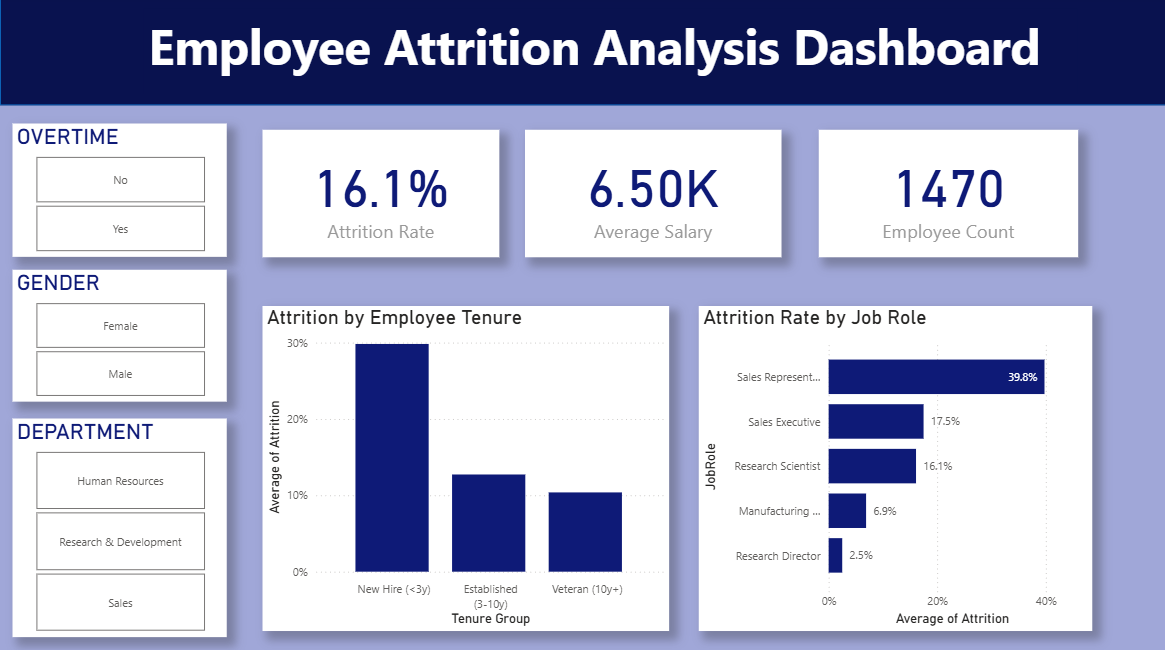

This screenshot's page, from the dashboard's own definition file:
{"tool":"powerbi","page":{"name":"Dashboard","canvas":[1280,720],"ordinal":0},"visuals":[{"type":"card","fields":{"Values":["CountNonNull(Cleaned Data.Employee Age)"]},"box":[898.3,146.7,285,140],"z":0},{"type":"card","fields":{"Values":["Avg(Cleaned Data.Attrition)"]},"box":[288.3,146.7,260,140],"z":1000},{"type":"card","fields":{"Values":["Avg(Cleaned Data.Monthly Salary($))"]},"box":[576.7,146.7,281.7,140],"z":2000},{"type":"slicer","title":"OVERTIME","fields":{"Values":["Cleaned Data.OverTime"]},"box":[13.3,140,235,146.7],"z":3000},{"type":"clusteredColumnChart","title":"Attrition by Employee Tenure","fields":{"Category":["Cleaned Data.Tenure Group"],"Y":["Avg(Cleaned Data.Attrition)"]},"box":[288.3,340,446.7,356.7],"z":4000},{"type":"clusteredBarChart","title":"Attrition Rate by Job Role","fields":{"Category":["Cleaned Data.JobRole"],"Y":["Avg(Cleaned Data.Attrition)"]},"box":[766.7,340,431.7,356.7],"z":5000},{"type":"slicer","title":"GENDER","fields":{"Values":["Cleaned Data.Gender"]},"box":[13.3,300,235,145],"z":6000},{"type":"slicer","title":"DEPARTMENT","fields":{"Values":["Cleaned Data.Department"]},"box":[13.3,463.3,235,240],"z":7000},{"type":"shape","box":[0,0,1280,120],"z":8000},{"type":"textbox","box":[158.3,13.3,1025,93.3],"z":9000}]}

Visuals, with their boxes in screenshot pixels (x1, y1, x2, y2), scaled from the page's 1280x720 canvas onto the 1165x650 screenshot:
card - CountNonNull(Cleaned Data.Employee Age): select_region(818, 132, 1077, 259)
card - Avg(Cleaned Data.Attrition): select_region(262, 132, 499, 259)
card - Avg(Cleaned Data.Monthly Salary($)): select_region(525, 132, 781, 259)
"OVERTIME" slicer: select_region(12, 126, 226, 259)
"Attrition by Employee Tenure" clusteredColumnChart: select_region(262, 307, 669, 629)
"Attrition Rate by Job Role" clusteredBarChart: select_region(698, 307, 1091, 629)
"GENDER" slicer: select_region(12, 271, 226, 402)
"DEPARTMENT" slicer: select_region(12, 418, 226, 635)
shape: select_region(0, 0, 1164, 108)
textbox: select_region(144, 12, 1077, 96)
